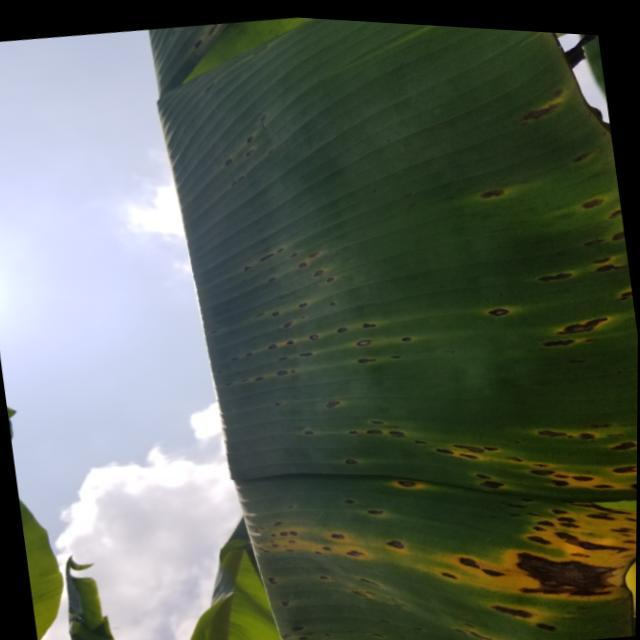Early_rust: (195, 87, 640, 640), (155, 16, 224, 59)
